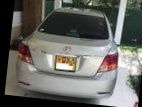car: (13, 2, 123, 102)
